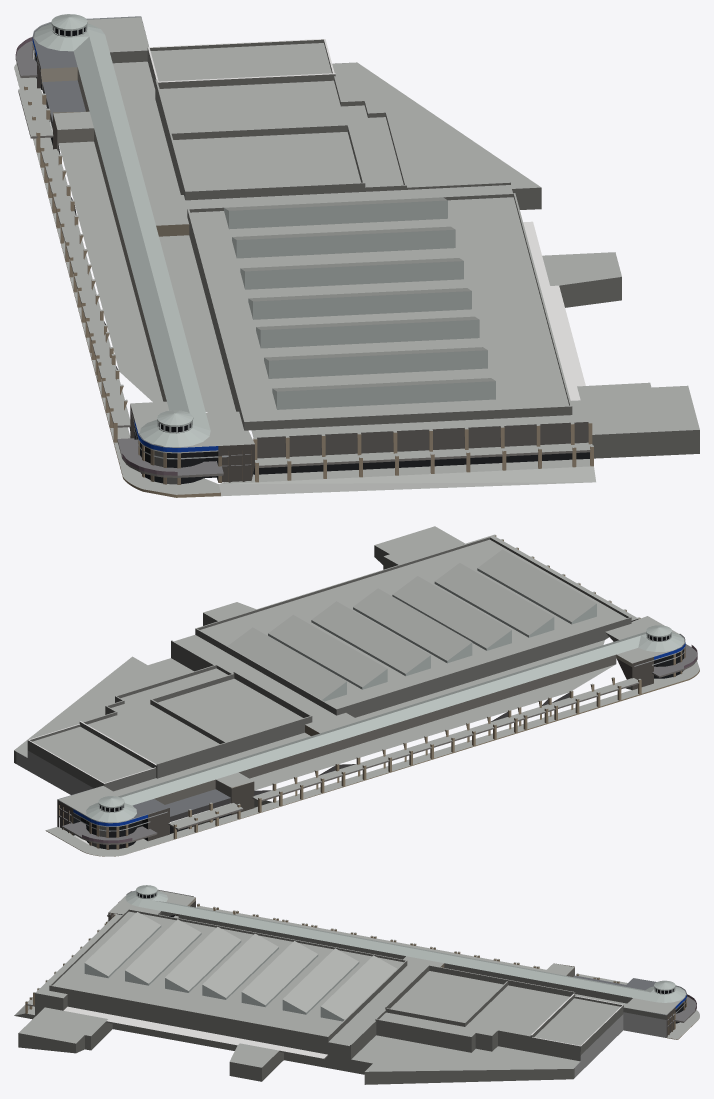
Rendered from the-chattanooga-convention-center.glb.
3 renders of one model, top to bottom at view 1: azimuth 30°, elevation 25°; view 2: azimuth 150°, elevation 25°; view 3: azimuth 270°, elevation 25°, orthographic. The views are drawn at different scales.
Parts seen in each view (by area): view 1: LOD0; view 2: LOD0; view 3: LOD0.
Part boxes in pixels (<box>): LOD0: <box>14,14,699,497</box>; LOD0: <box>14,526,699,856</box>; LOD0: <box>14,885,699,1084</box>.
Size of what is drawn, in the model's own units: 176 by 19.35 by 293.
Materials: 3 (3 with a texture image).
